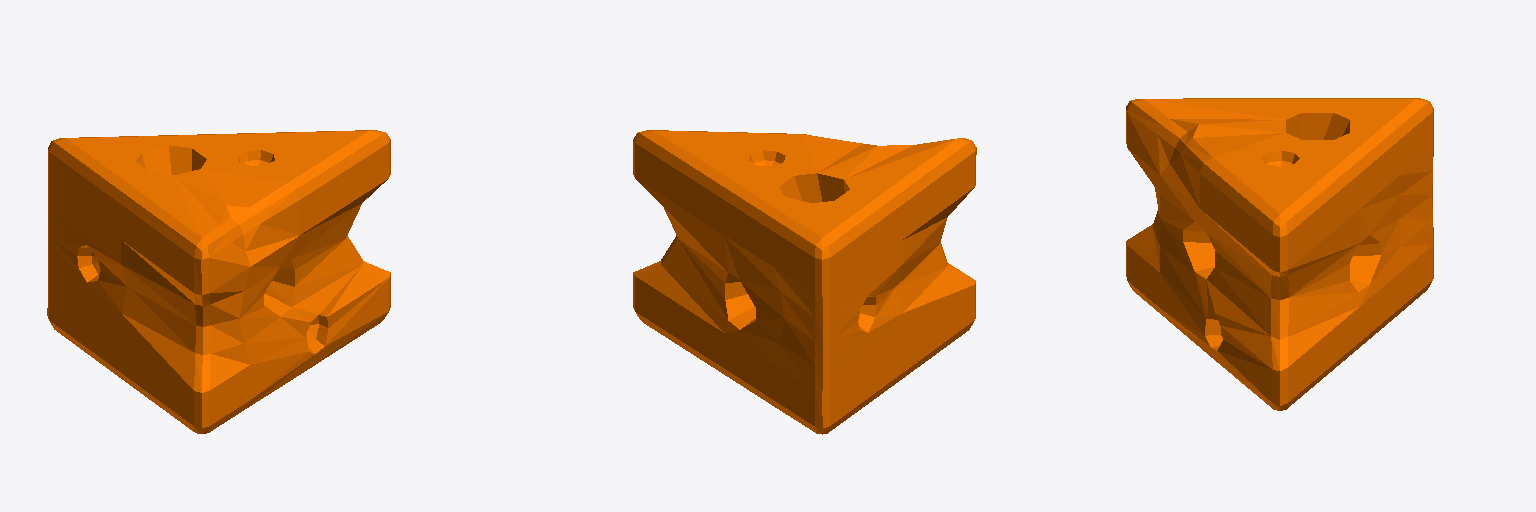
The model's file is cheese.obj.
3 renders of one model, left to right at view 1: azimuth 30°, elevation 25°; view 2: azimuth 150°, elevation 25°; view 3: azimuth 270°, elevation 25°, orthographic.
Visible parts, largest first — view 1: cheese_Cube.8498; view 2: cheese_Cube.8498; view 3: cheese_Cube.8498.
Boxes of the visible parts, x1=… form: cheese_Cube.8498: x1=47, y1=130, x2=390, y2=433; cheese_Cube.8498: x1=633, y1=130, x2=976, y2=434; cheese_Cube.8498: x1=1126, y1=98, x2=1433, y2=410.
Bounding box in the file's own units: 0.4308 × 0.2981 × 0.4264.